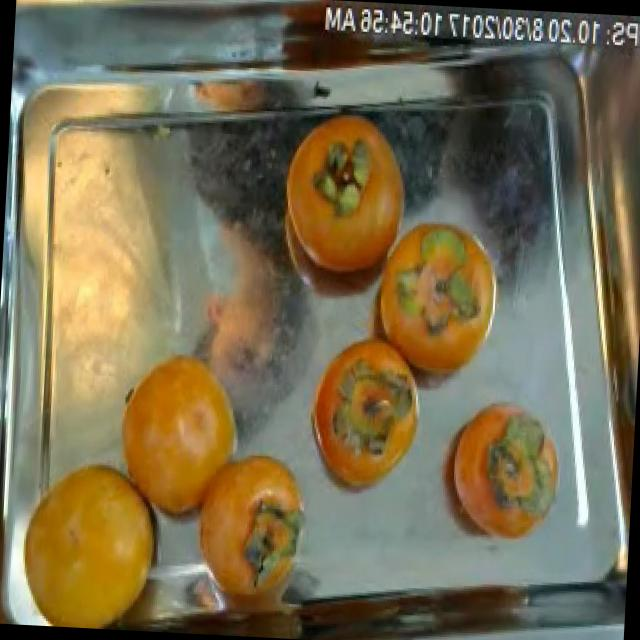Fruit: (100, 328, 261, 550), (4, 440, 183, 633), (356, 196, 514, 407), (263, 101, 427, 303), (172, 428, 320, 632), (294, 322, 434, 512), (424, 386, 565, 558)
